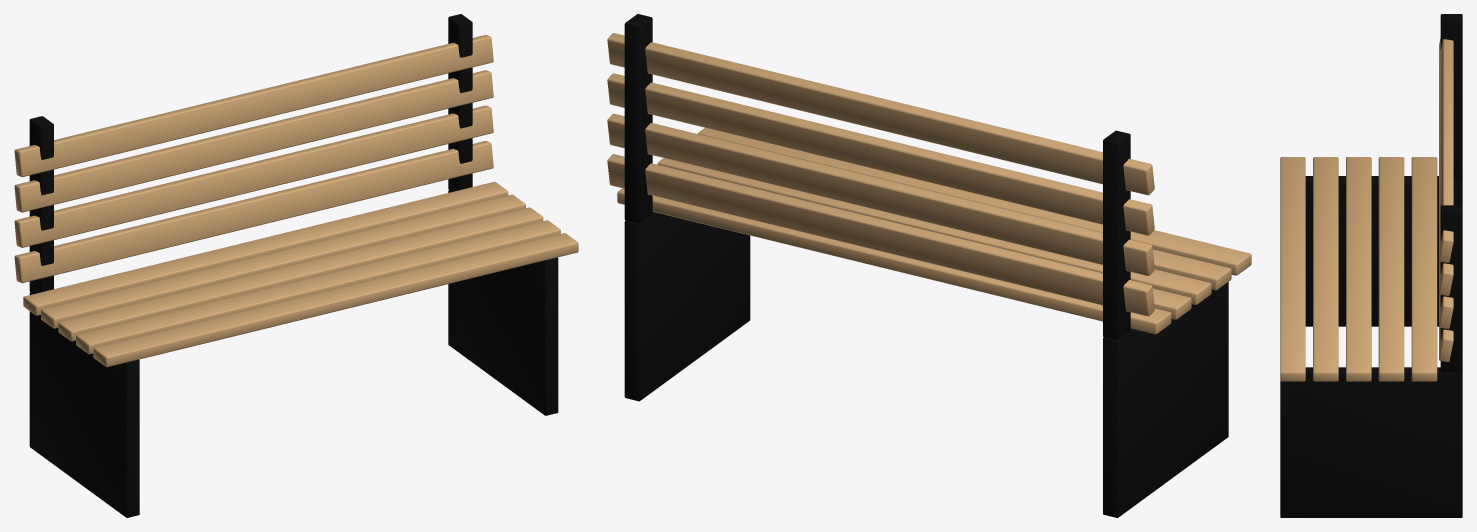
Rendered from Bench_Garden.glb.
3 renders of one model, left to right at view 1: azimuth 30°, elevation 25°; view 2: azimuth 150°, elevation 25°; view 3: azimuth 270°, elevation 25°, orthographic. The views are drawn at different scales.
Visible parts, largest first — view 1: Bench_Garden; view 2: Bench_Garden; view 3: Bench_Garden.
Part boxes in pixels (x1,y1,x2,y2): Bench_Garden: [14, 14, 578, 517]; Bench_Garden: [607, 14, 1251, 517]; Bench_Garden: [1280, 14, 1462, 517].
Size of the model in its own units: 1.4 by 0.93 by 0.5.
